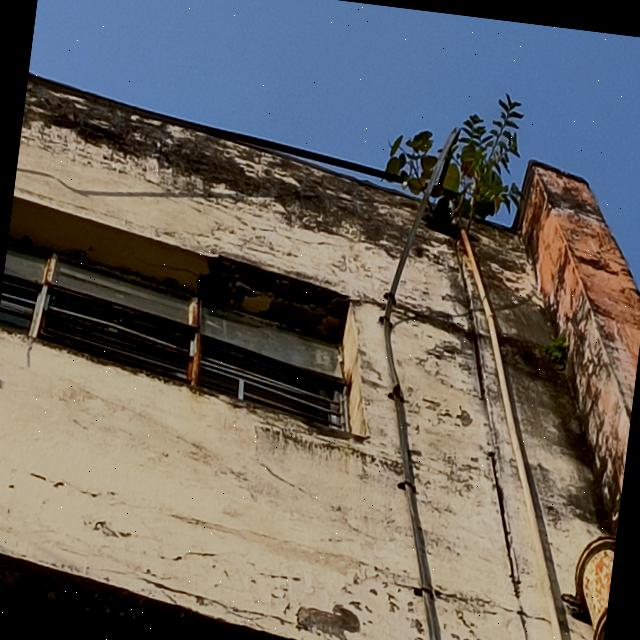spalling: (197, 257, 352, 336)
stain_mould: (21, 76, 417, 261), (519, 162, 640, 530), (469, 222, 607, 530), (372, 97, 530, 241), (393, 310, 480, 425), (296, 604, 359, 640), (542, 327, 577, 371)
